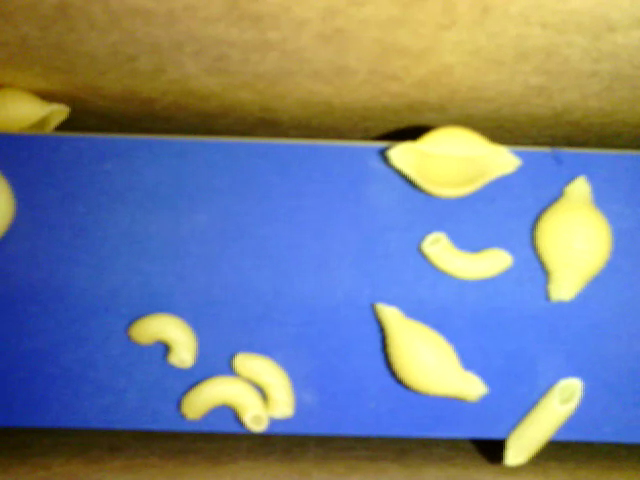elbow: (416, 229, 515, 285), (228, 348, 298, 421), (181, 377, 275, 431), (127, 309, 199, 366)
penne: (503, 372, 584, 469)
shell: (369, 301, 488, 401), (377, 123, 522, 201), (532, 170, 613, 300), (1, 83, 72, 136)
